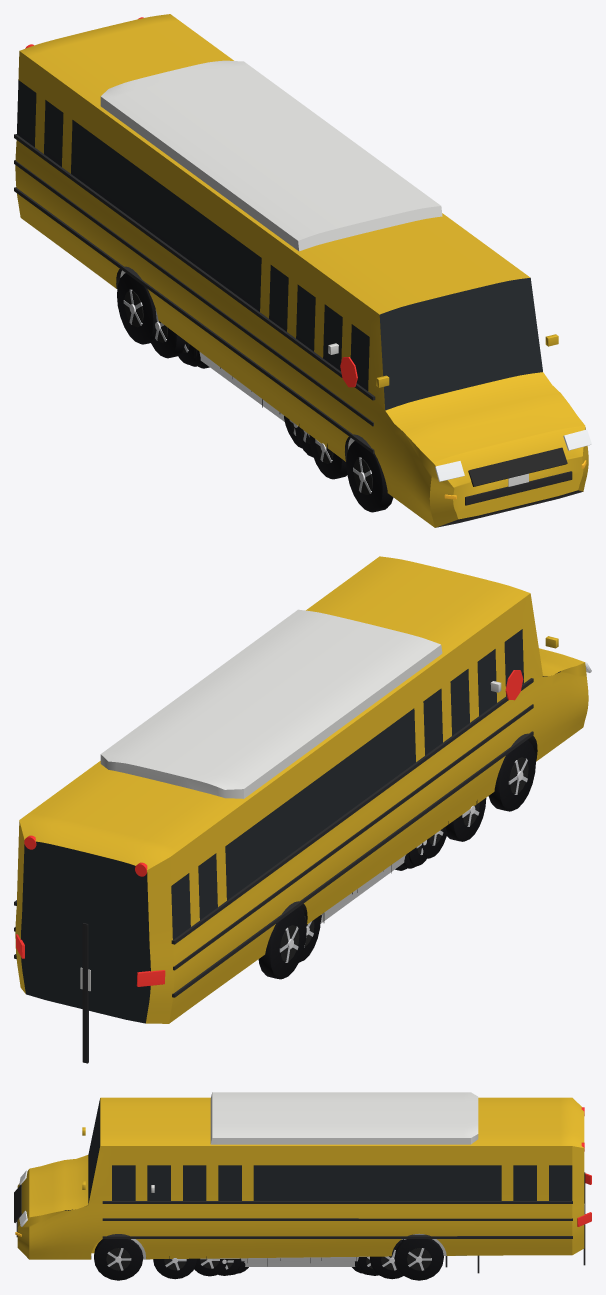
File: vehicles.glb
3 views of the same model, one above another, from view 1: azimuth 30°, elevation 25°; view 2: azimuth 150°, elevation 25°; view 3: azimuth 270°, elevation 25° (orthographic). The views are drawn at different scales.
Visible parts, largest first — view 1: schoolbus, boxtruck, minivan; view 2: schoolbus, boxtruck, minivan; view 3: schoolbus, boxtruck, minivan, pickup.
Boxes of the visible parts, x1,y1,x2,y2 form: schoolbus: [14, 14, 591, 527]; boxtruck: [100, 60, 442, 479]; minivan: [178, 341, 301, 448]; schoolbus: [14, 556, 591, 1063]; boxtruck: [100, 609, 501, 962]; minivan: [320, 840, 427, 923]; schoolbus: [14, 1097, 591, 1280]; boxtruck: [131, 1092, 479, 1279]; minivan: [218, 1256, 378, 1275]; pickup: [194, 1239, 447, 1276].
Bounding box in the file's own units: 2.76 × 3.62 × 11.73.
14 materials, 1 textured.
